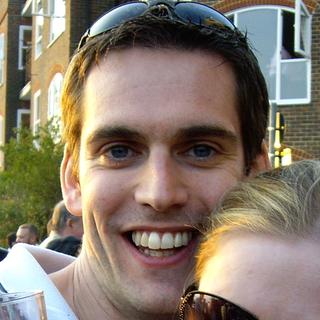eye: (174, 138, 230, 165), (91, 139, 149, 164)
